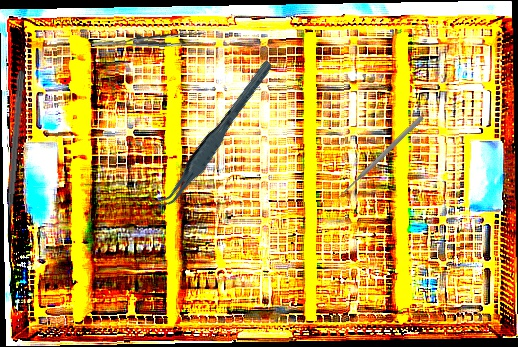Pusher: (335, 113, 425, 202), (1, 69, 26, 238)
Tissue Forceps: (140, 58, 290, 215), (91, 23, 205, 56)
